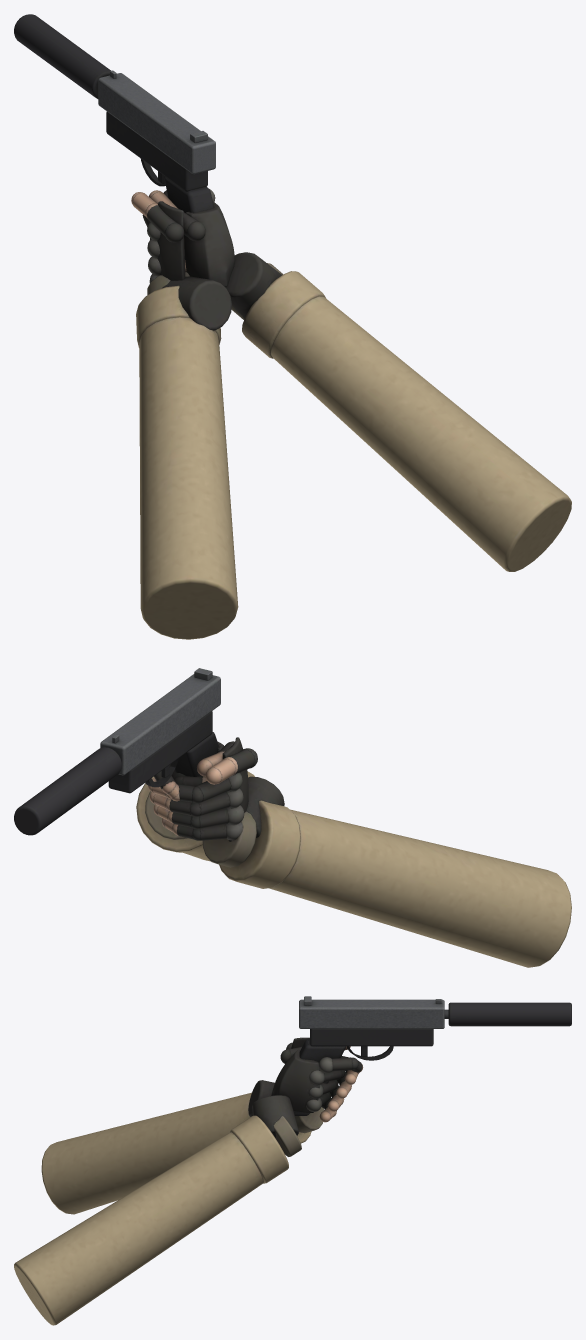
The model's file is lydloes.glb.
3 views of the same model, one above another, from view 1: azimuth 30°, elevation 25°; view 2: azimuth 150°, elevation 25°; view 3: azimuth 270°, elevation 25° (orthographic). The views are drawn at different scales.
Visible parts, largest first — view 1: hænder, lydloes; view 2: hænder, lydloes; view 3: hænder, lydloes.
Part boxes in pixels (bbox=[...]): hænder: bbox=[131, 189, 571, 639]; lydloes: bbox=[14, 14, 215, 258]; hænder: bbox=[136, 737, 571, 967]; lydloes: bbox=[14, 668, 220, 835]; hænder: bbox=[14, 1037, 363, 1325]; lydloes: bbox=[293, 996, 571, 1115].
Size of the model in its own units: 0.4785 by 0.4021 by 0.7458.
2 materials, 2 textured.
